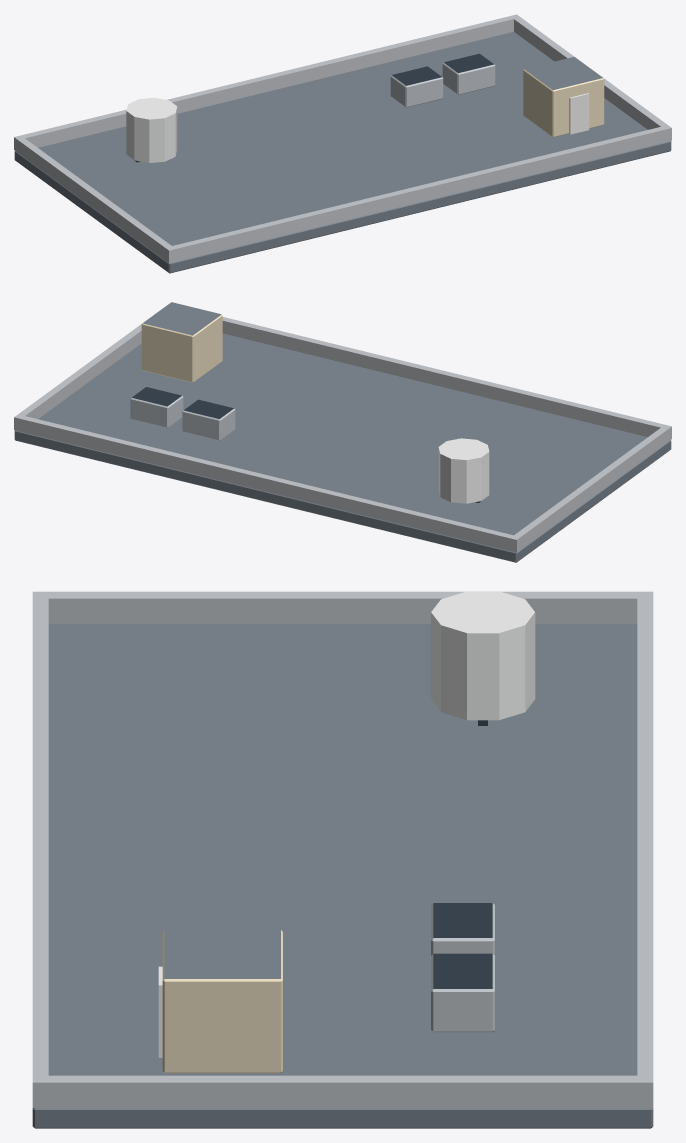
The model's file is roof_top.fbx.
3 renders of one model, top to bottom at view 1: azimuth 30°, elevation 25°; view 2: azimuth 150°, elevation 25°; view 3: azimuth 270°, elevation 25°, orthographic. The views are drawn at different scales.
Visible parts, largest first — view 1: roof_top; view 2: roof_top; view 3: roof_top.
Boxes of the visible parts, x1,y1,x2,y2 form: roof_top: (14,14,671,273); roof_top: (14,302,671,562); roof_top: (32,591,653,1128).
Size of the model in its own units: 29 by 3.3 by 15.5.
